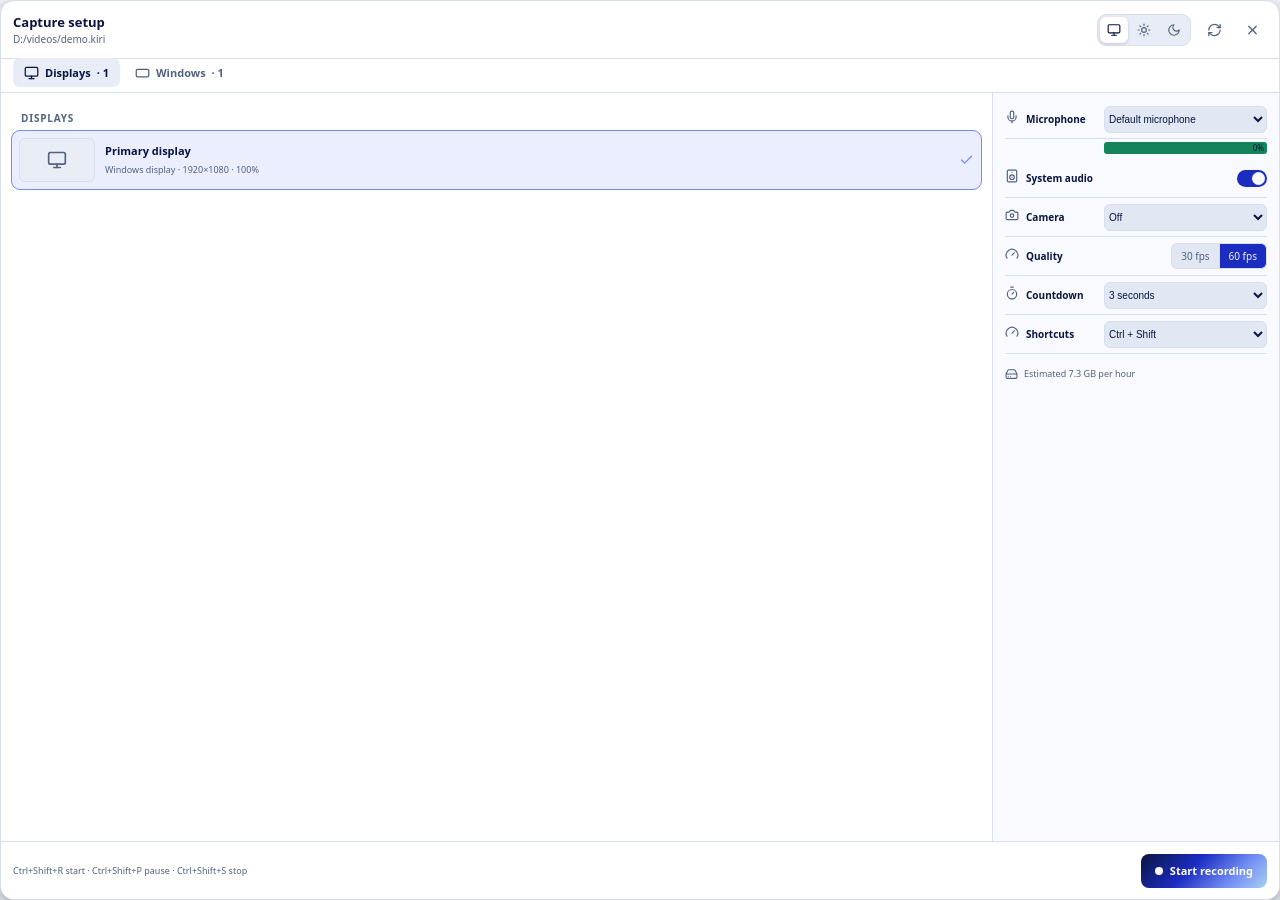
SourceSelector › surfaces start failures as an honest notice
Expected: the text "Primary display" is shown, [105,143,191,158]
Select "None" in the dropdown named "Countdown" at (1186, 295), box [1104,282,1267,308]
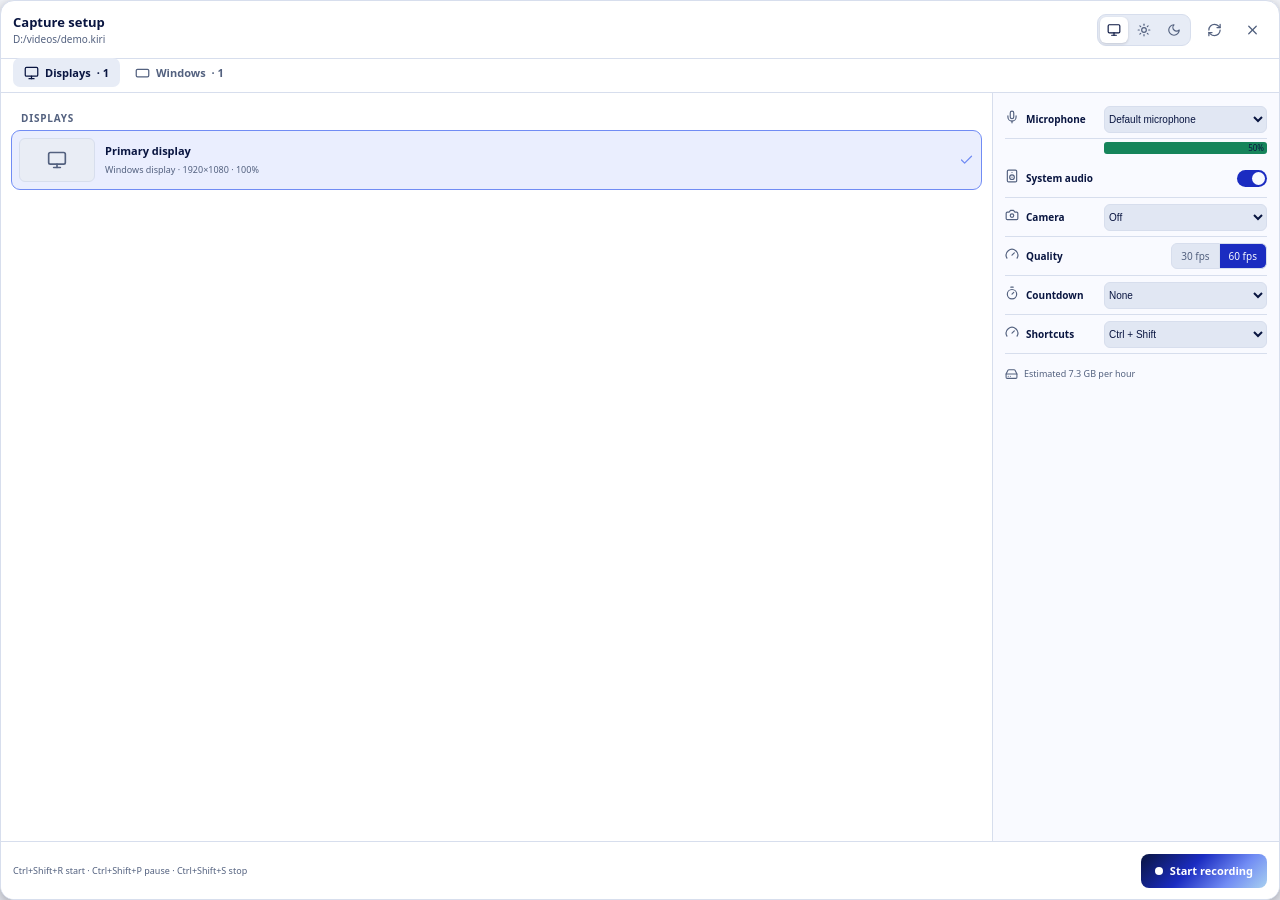
Click the button "Start recording" at (1204, 870), box [1141,854,1267,888]
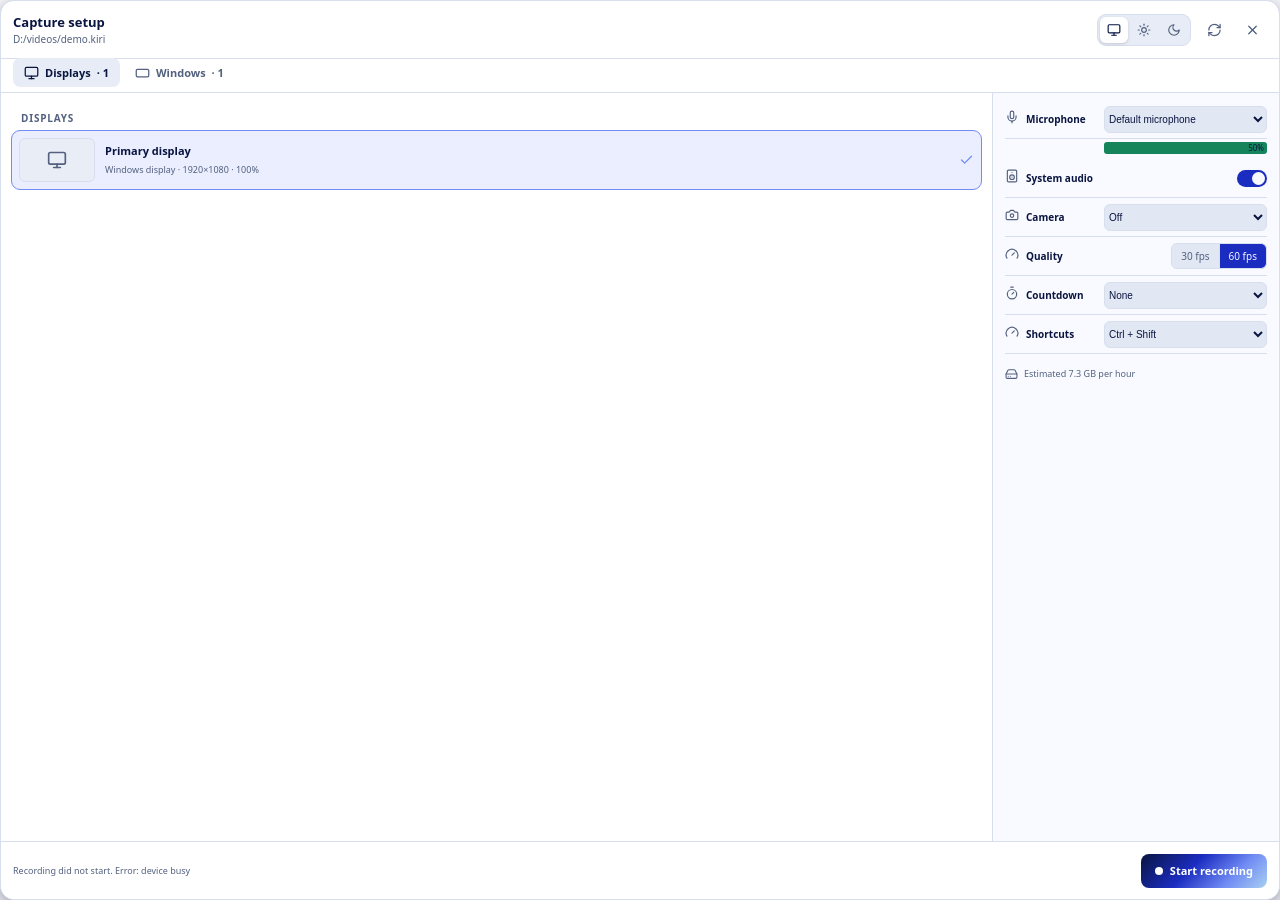
Expected: the text "Recording did not start. Error: device busy" is shown, [13,864,190,877]
